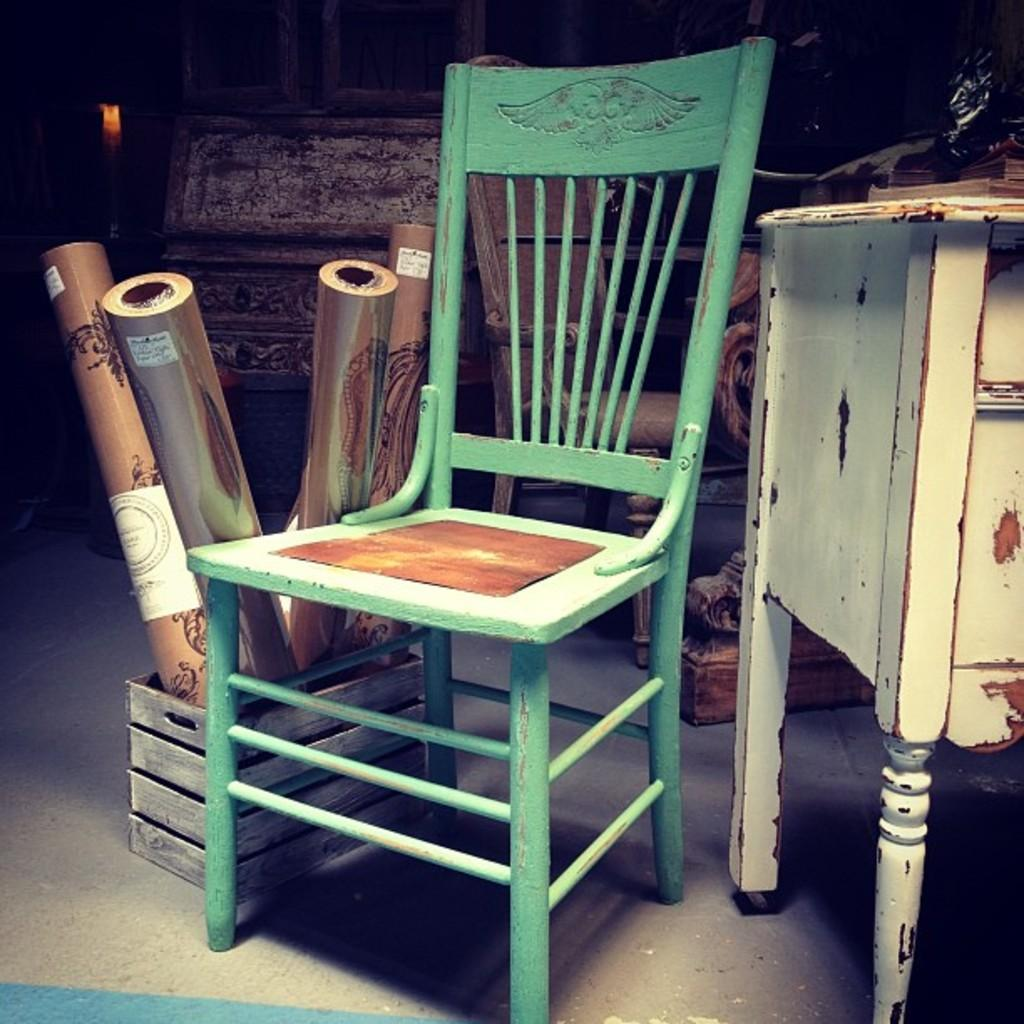Chair: (179, 32, 780, 1022)
